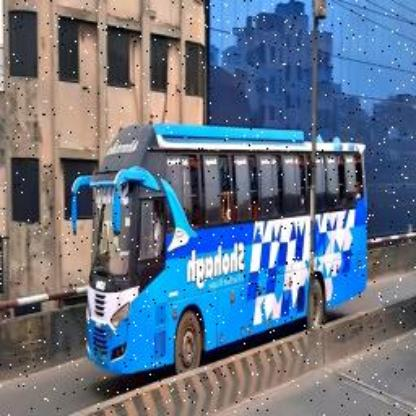bus: (68, 115, 370, 389)
